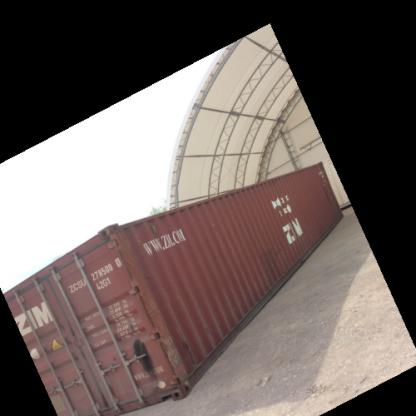Damage: (127, 331, 167, 382), (178, 322, 215, 374), (251, 239, 282, 279), (61, 333, 81, 369), (317, 171, 333, 211), (144, 219, 165, 240)
